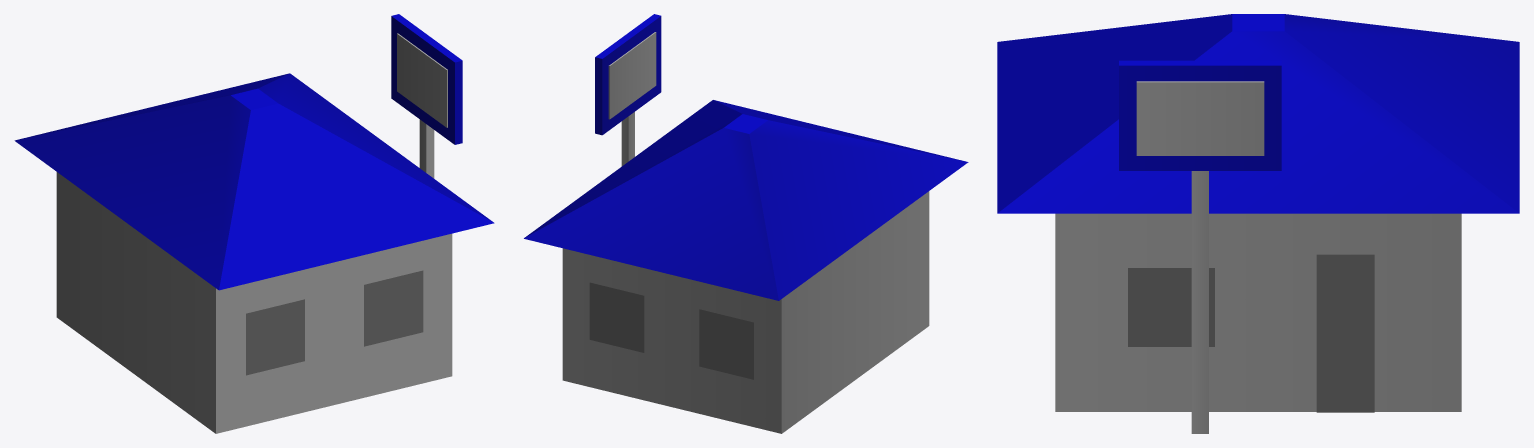
File: fast-food-alternate-high.glb
3 views of the same model, side by side, from view 1: azimuth 30°, elevation 25°; view 2: azimuth 150°, elevation 25°; view 3: azimuth 270°, elevation 25° (orthographic). The views are drawn at different scales.
Visible parts, largest first — view 1: frame-00; view 2: frame-00; view 3: frame-00.
Part boxes in pixels (left/top/right/bottom): frame-00: left=14, top=14, right=494, bottom=433; frame-00: left=524, top=14, right=968, bottom=433; frame-00: left=997, top=14, right=1519, bottom=433.
Size of what is drawn, in the model's own units: 0.743 by 0.7 by 0.9.
